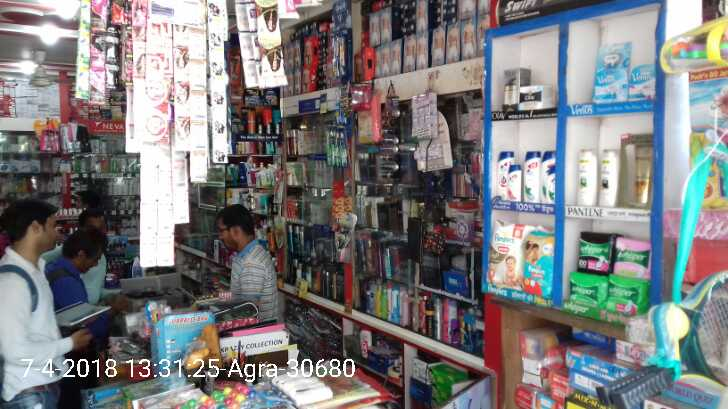venus: (595, 45, 629, 99), (629, 63, 657, 99)
